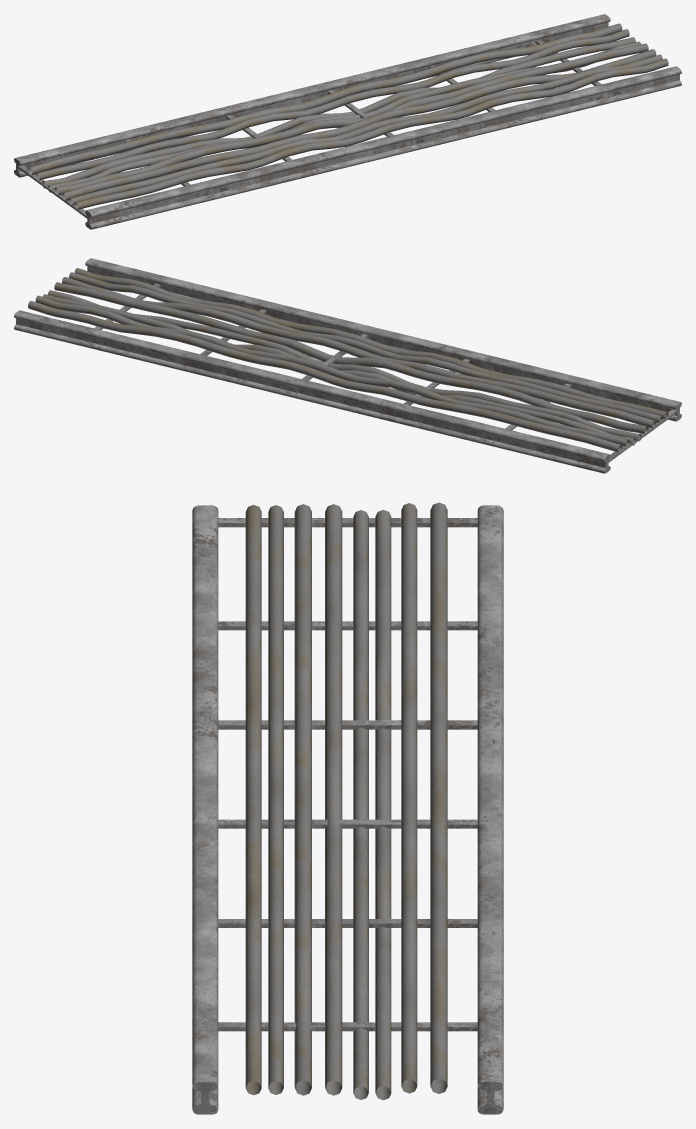
Rendered from SM_Tracks.fbx.
3 renders of one model, top to bottom at view 1: azimuth 30°, elevation 25°; view 2: azimuth 150°, elevation 25°; view 3: azimuth 270°, elevation 25°, orthographic. The views are drawn at different scales.
Visible parts, largest first — view 1: SM_Tracks; view 2: SM_Tracks; view 3: SM_Tracks.
Part boxes in pixels (<box>): SM_Tracks: <box>14,14,681,229</box>; SM_Tracks: <box>14,258,681,473</box>; SM_Tracks: <box>192,502,503,1114</box>.
Bounding box in the file's own units: 250 × 57.05 × 8.82.
Materials: 1 (1 with a texture image).
